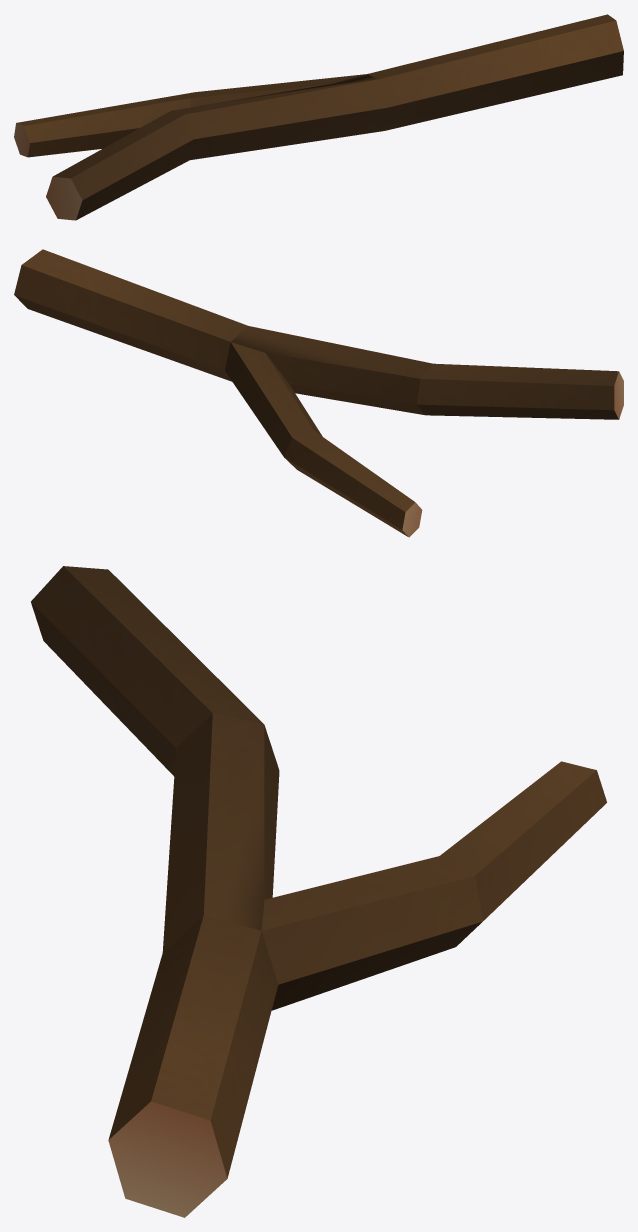
Rendered from Branch_2.fbx.
3 renders of one model, top to bottom at view 1: azimuth 30°, elevation 25°; view 2: azimuth 150°, elevation 25°; view 3: azimuth 270°, elevation 25°, orthographic. The views are drawn at different scales.
Parts seen in each view (by area): view 1: Branch_2; view 2: Branch_2; view 3: Branch_2.
Part boxes in pixels (x1=…): Branch_2: x1=14, y1=14, x2=623, y2=220; Branch_2: x1=14, y1=249, x2=623, y2=537; Branch_2: x1=31, y1=566, x2=606, y2=1217.
Bounding box in the file's own units: 0.3506 × 0.0548 × 0.1526.
1 material, 1 textured.
